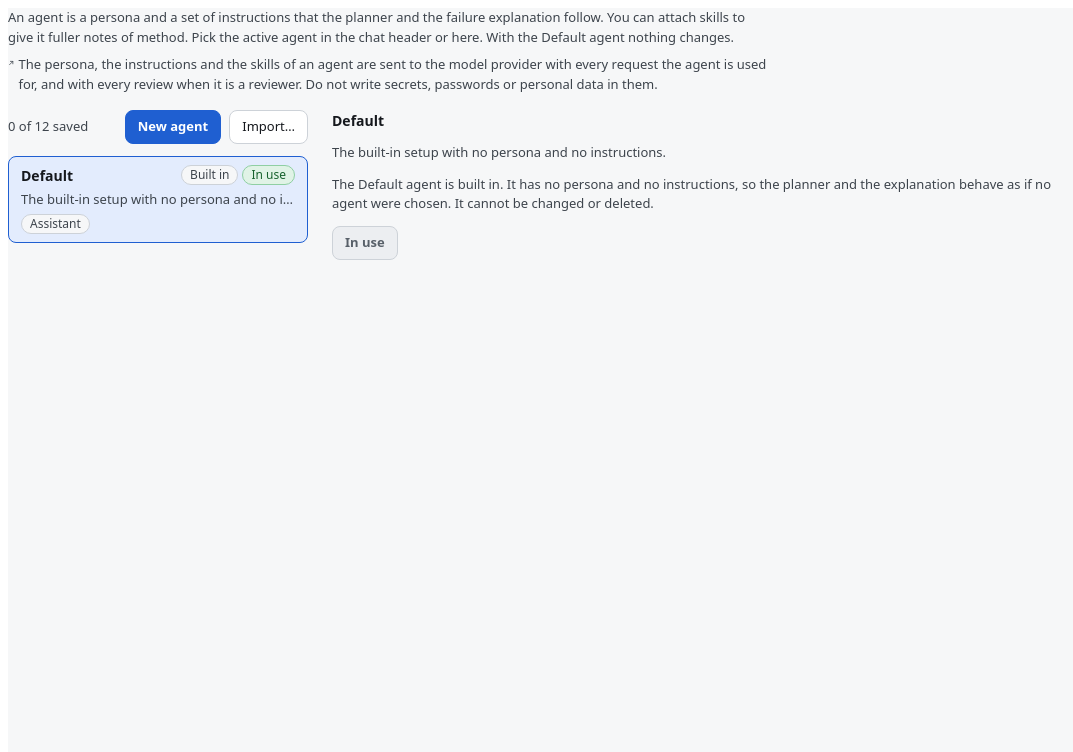
Test case: the review of an imported file › shows the parsed fields, says that nothing is saved or switched on, and names the file and what is sent
Expected: the list named "Agent list" is shown, [8,156,308,242]
Click the button "Import…" at (269, 127), box [229,110,308,144]
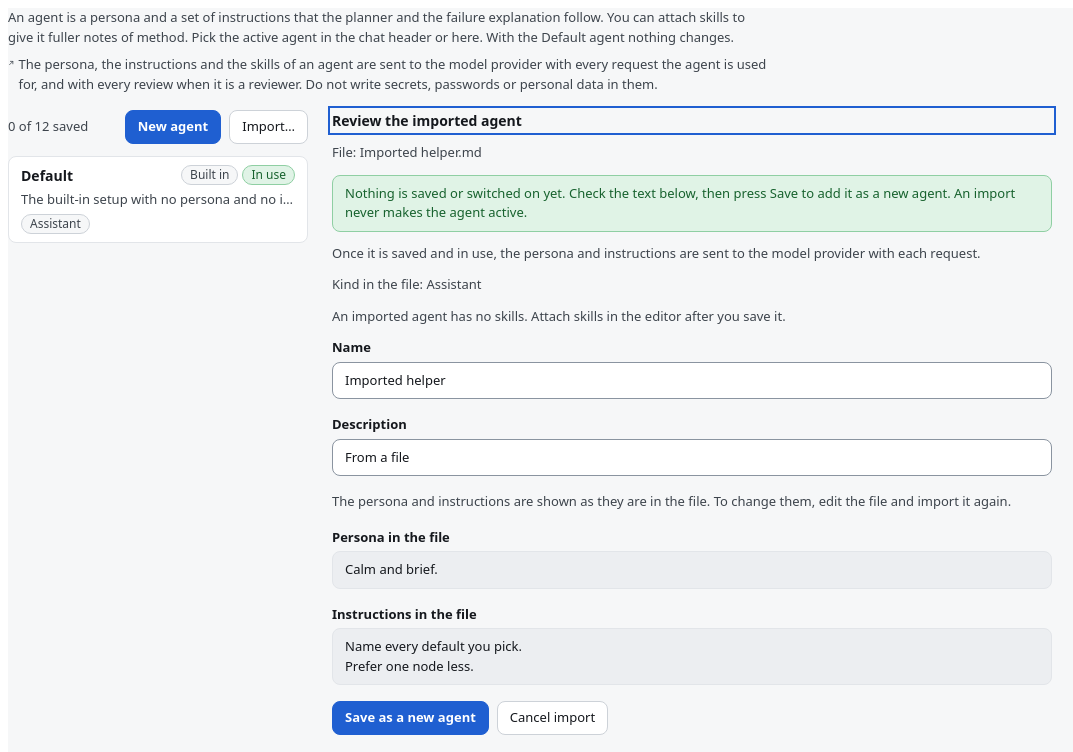
Expected: the heading "Review the imported agent" is shown, [332,111,522,130]
Expected: the text "File: Imported helper.md" is shown, [332,143,482,161]
Expected: the text "Nothing is saved or switched on yet. Check the text below, then press Save to add it as a new agent. An import never mak" is shown, [345,184,1015,221]
